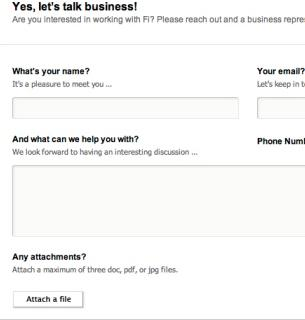button: (12, 290, 84, 309)
field: (12, 95, 240, 120)
field_with_label: (10, 65, 241, 122)
